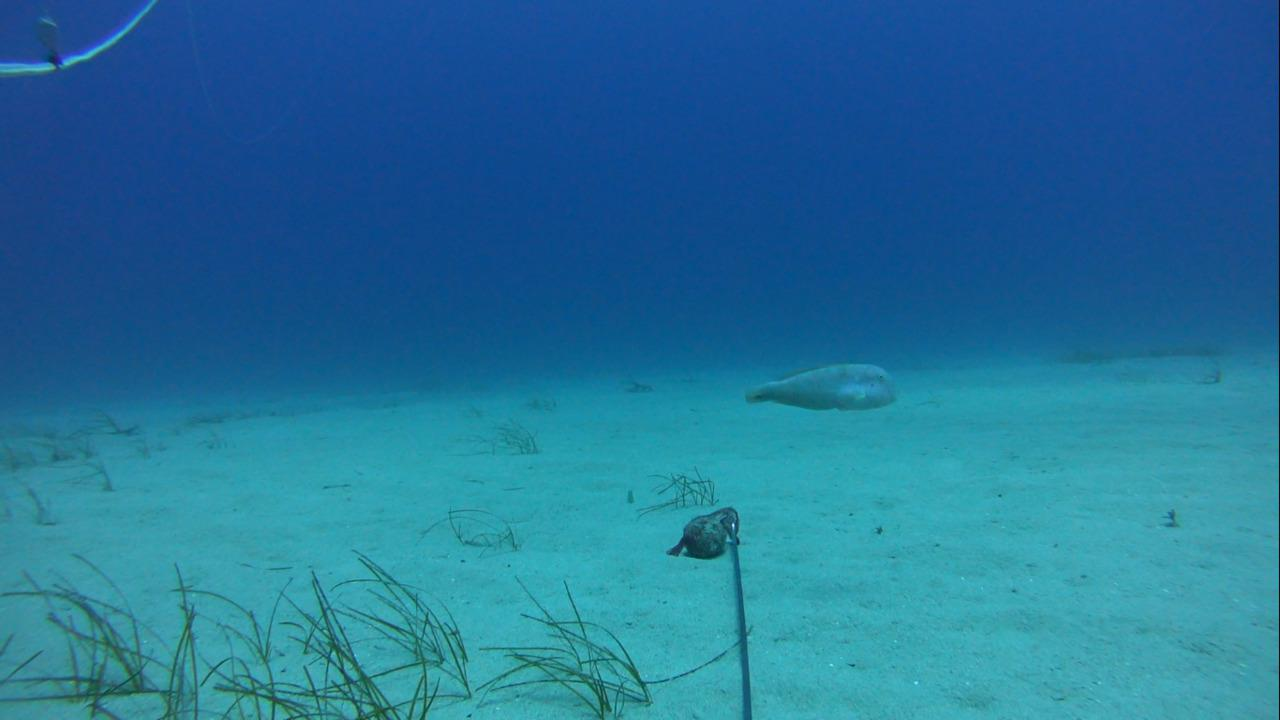raor: (734, 359, 902, 414)
